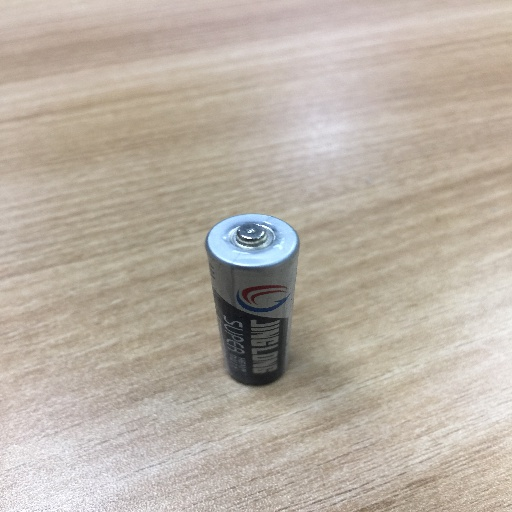Battery_0: (190, 191, 321, 412)
